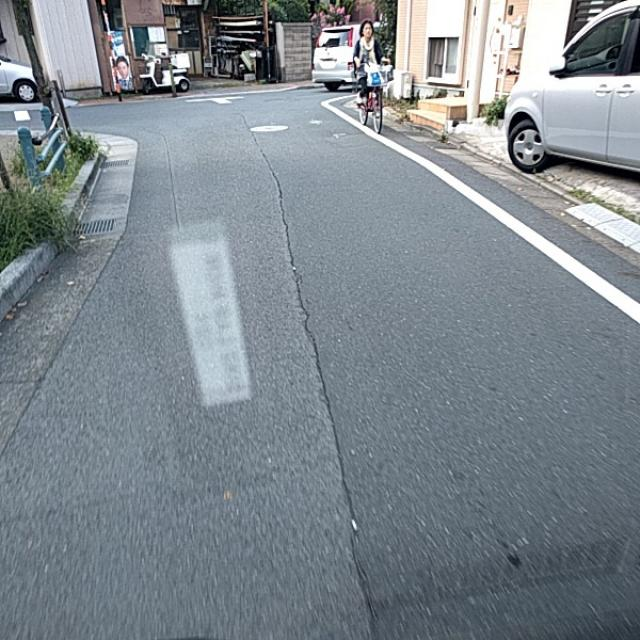pothole: (267, 237, 338, 358)
